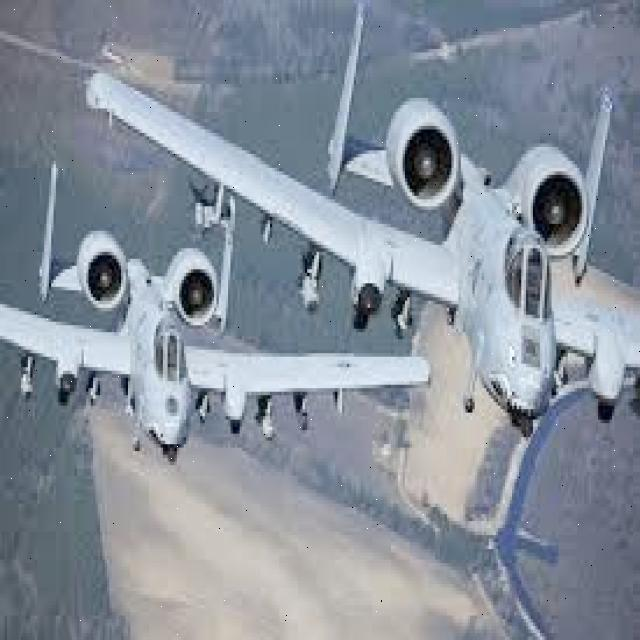A10: (81, 56, 640, 452), (0, 148, 430, 506)
